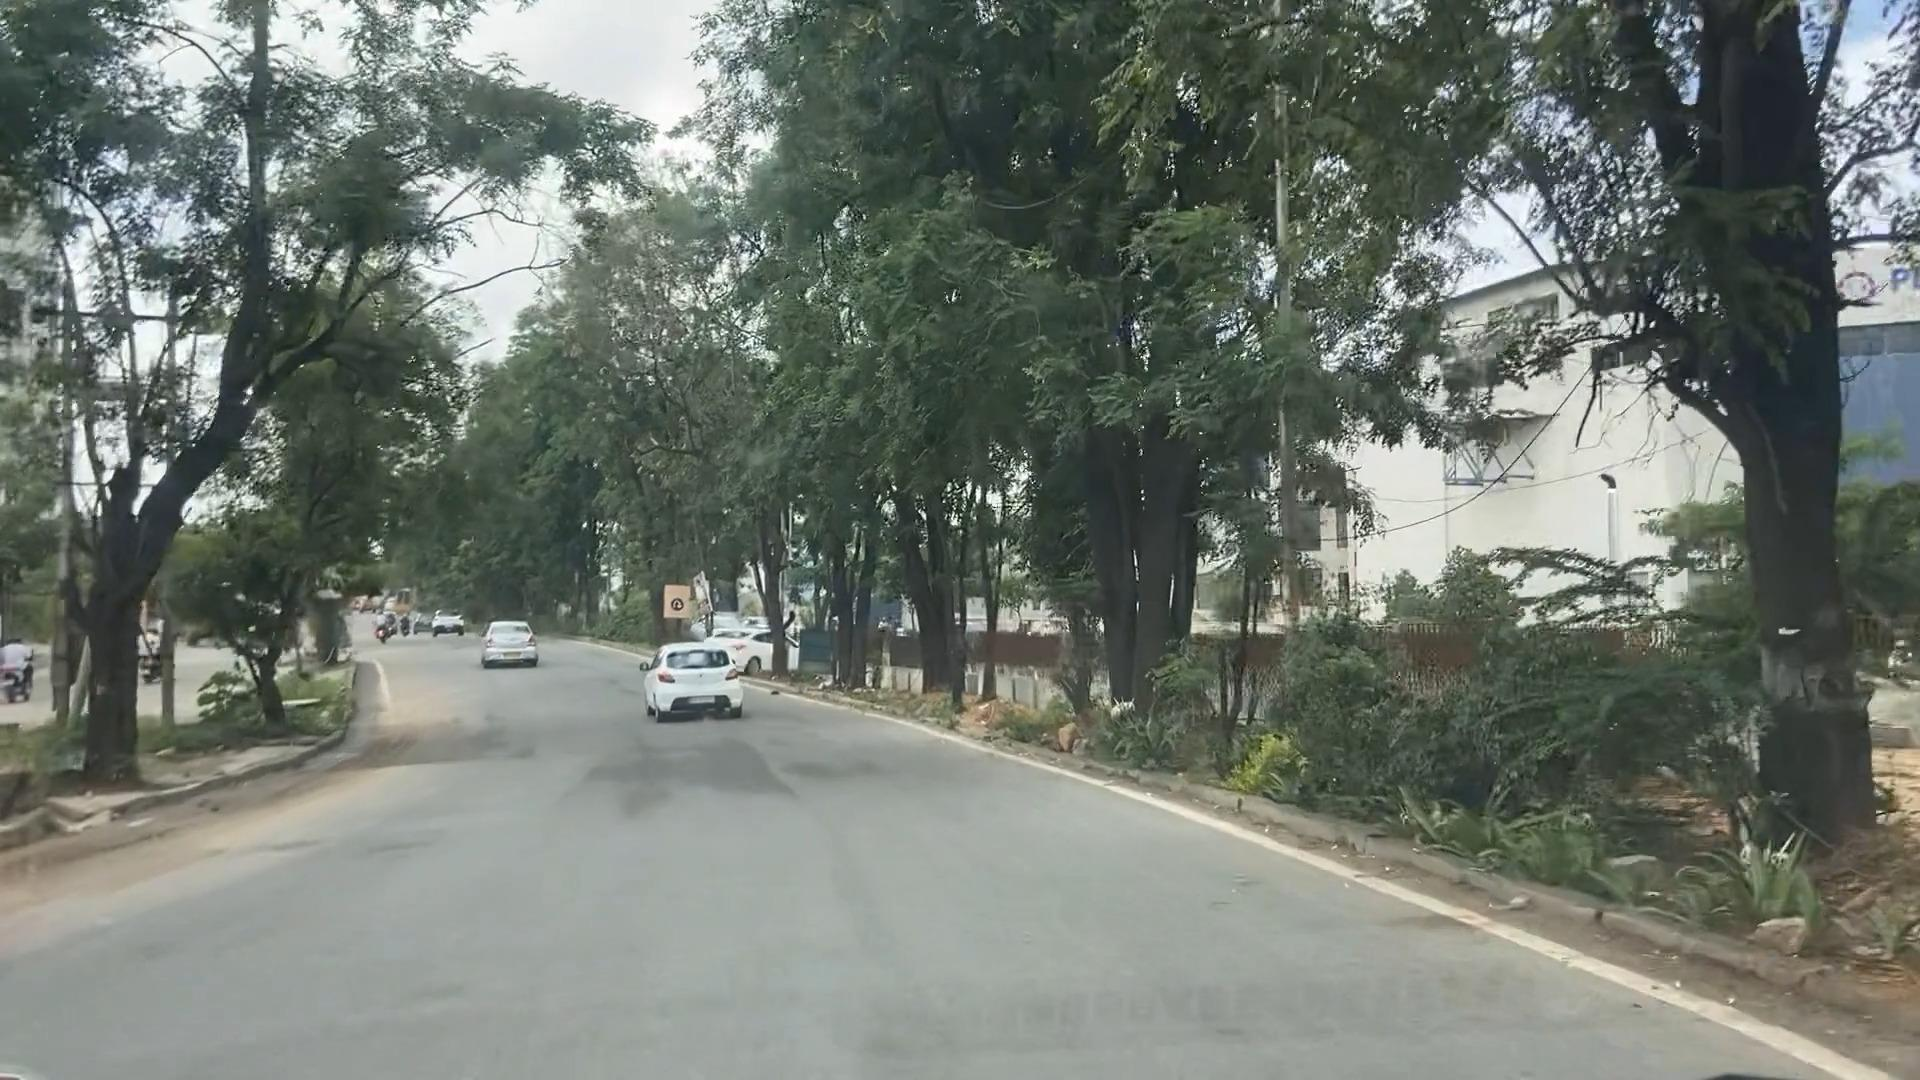LMV: (646, 640, 740, 724), (483, 612, 533, 663)
RoadDamages: (55, 829, 190, 882), (270, 742, 347, 806), (182, 785, 266, 832), (357, 723, 413, 786), (700, 736, 757, 789), (789, 750, 869, 786), (426, 716, 481, 765), (473, 727, 524, 778), (584, 744, 642, 787)
